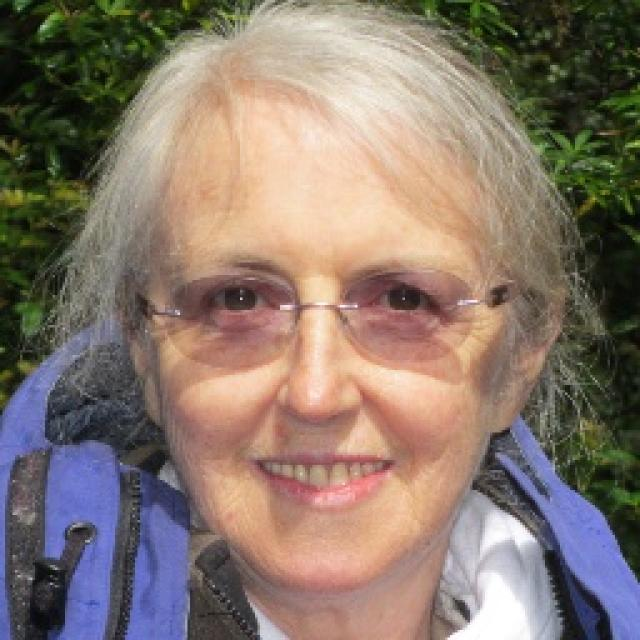earlobe: (492, 266, 566, 436), (114, 273, 166, 432)
